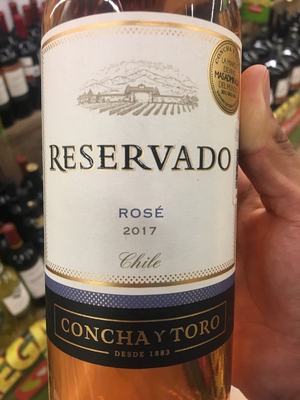reservado rose: (35, 8, 246, 400)
